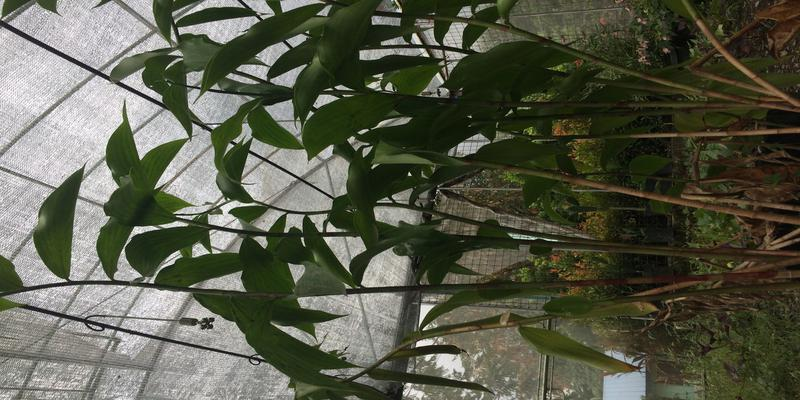Insulin: (167, 15, 765, 318)
